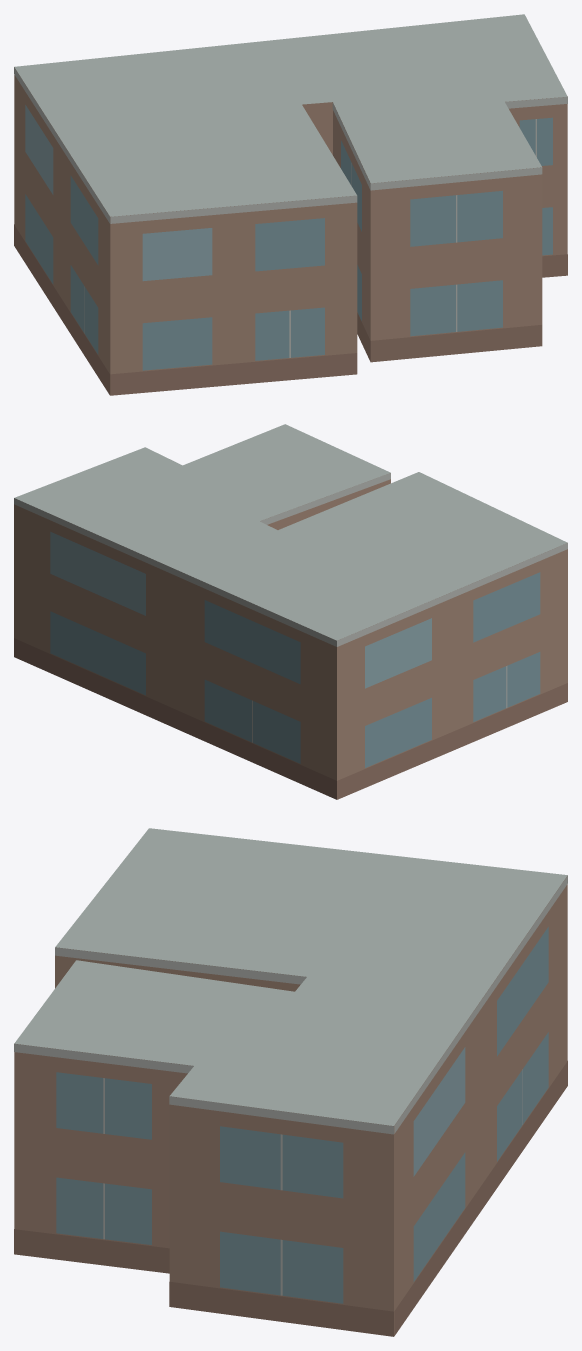
Rendered from survey-upis-32755638.glb.
3 views of the same model, one above another, from view 1: azimuth 30°, elevation 25°; view 2: azimuth 150°, elevation 25°; view 3: azimuth 270°, elevation 25° (orthographic). The views are drawn at different scales.
Parts seen in each view (by area): view 1: survey-upis-32755638.tmp; view 2: survey-upis-32755638.tmp; view 3: survey-upis-32755638.tmp.
Boxes of the visible parts, x1,y1,x2,y2 form: survey-upis-32755638.tmp: (14, 14, 567, 395); survey-upis-32755638.tmp: (14, 424, 567, 799); survey-upis-32755638.tmp: (14, 828, 567, 1336).
Size of the model in its own units: 18.51 by 6.1 by 14.54.
